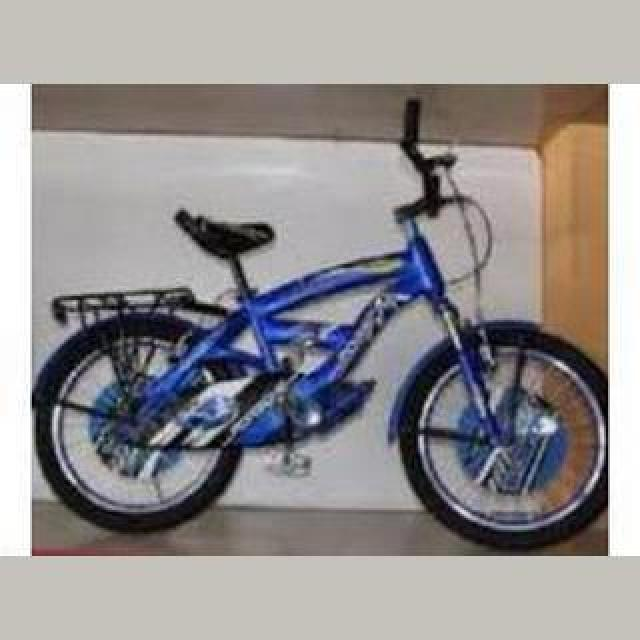Person: (34, 96, 608, 554)
